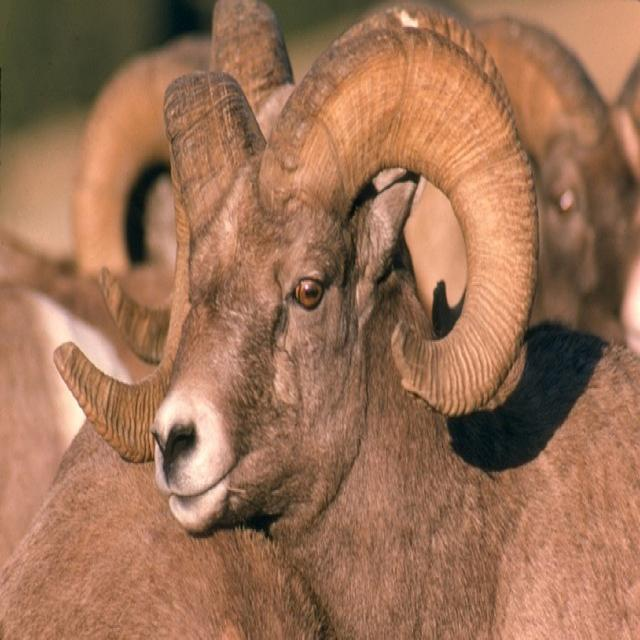goat: (56, 0, 640, 640)
